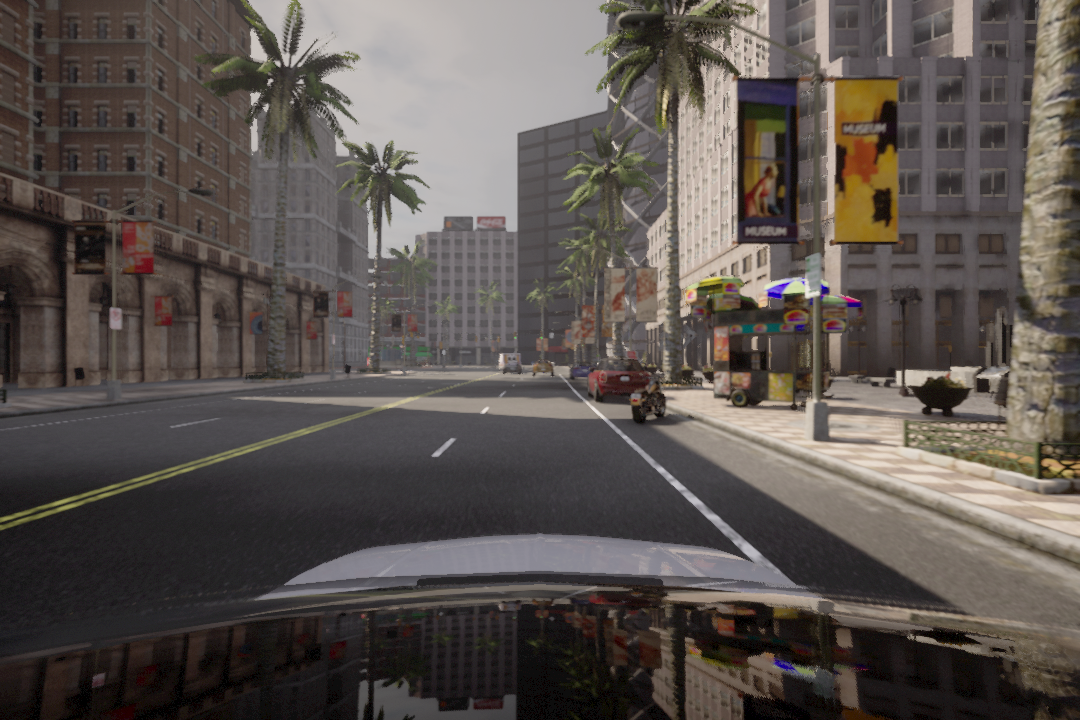TrafficSign_nstop: (106, 308, 121, 332)
